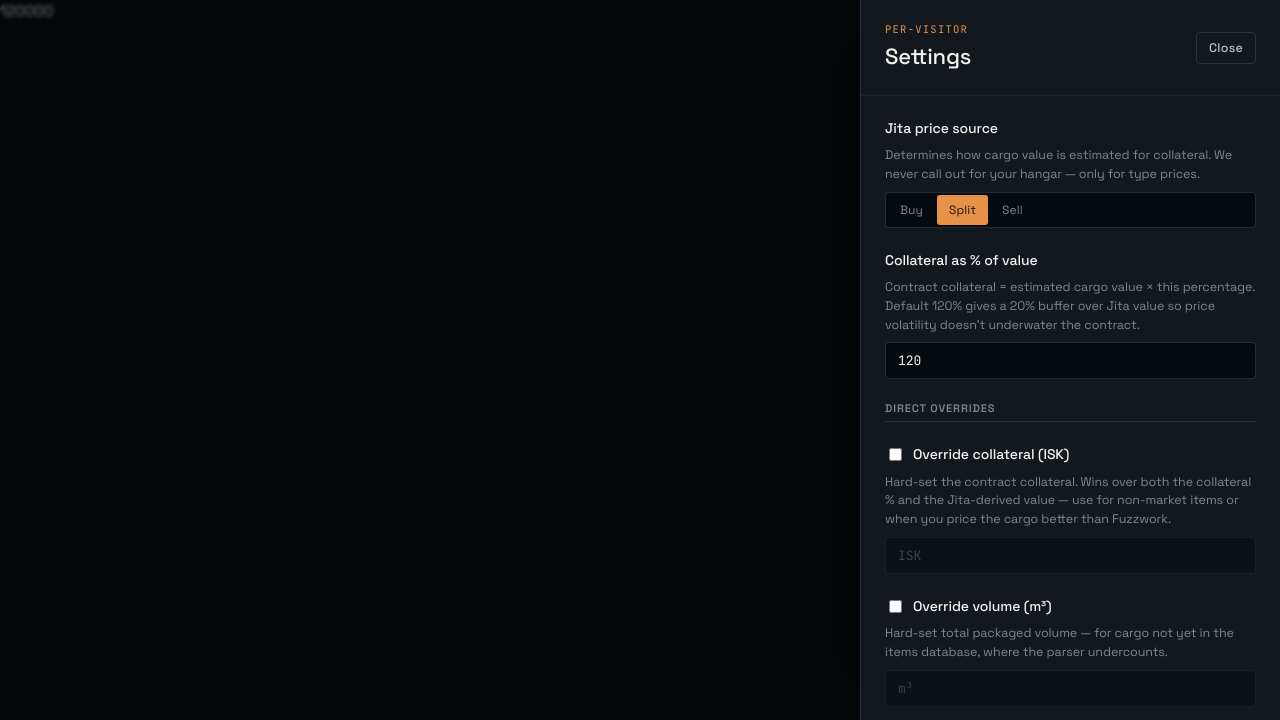
Scenario: SettingsDrawer — collateral-% typed input (#36) › normalizes an emptied field back to a valid value on commit
Clear the number field labelled "Collateral as % of value": x=1070, y=361 [885,342,1256,380]
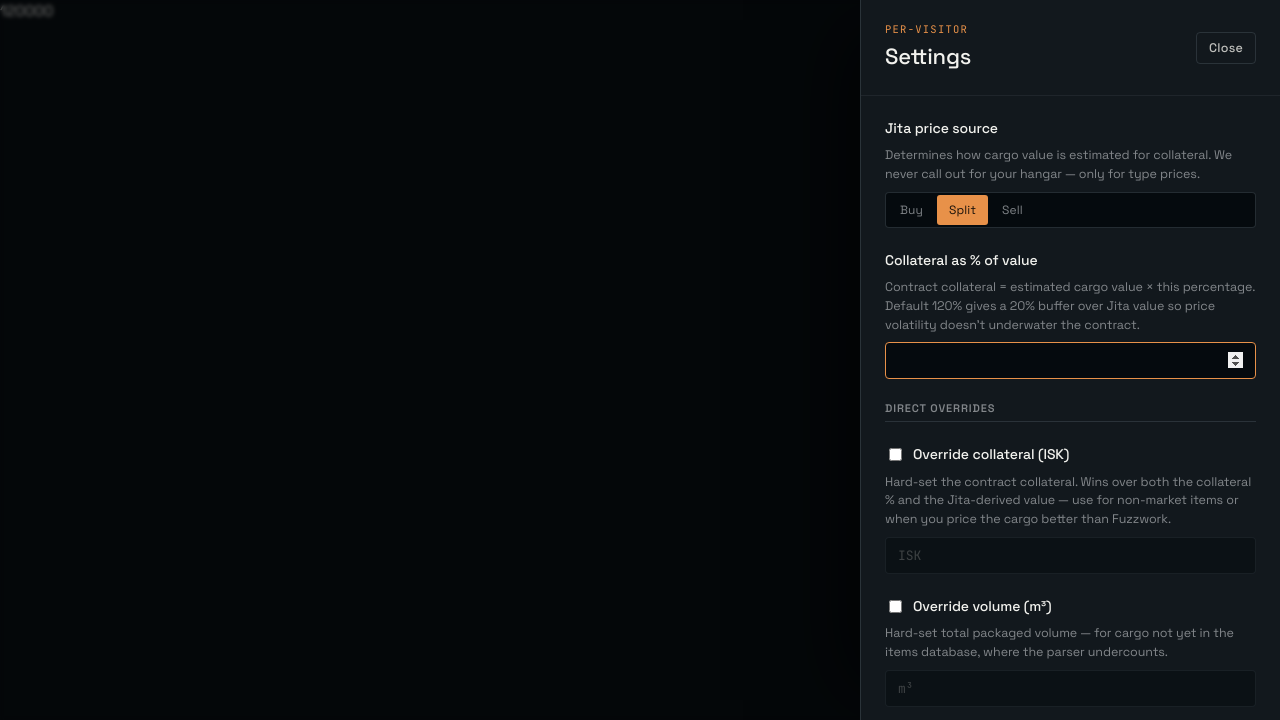
Press Tab
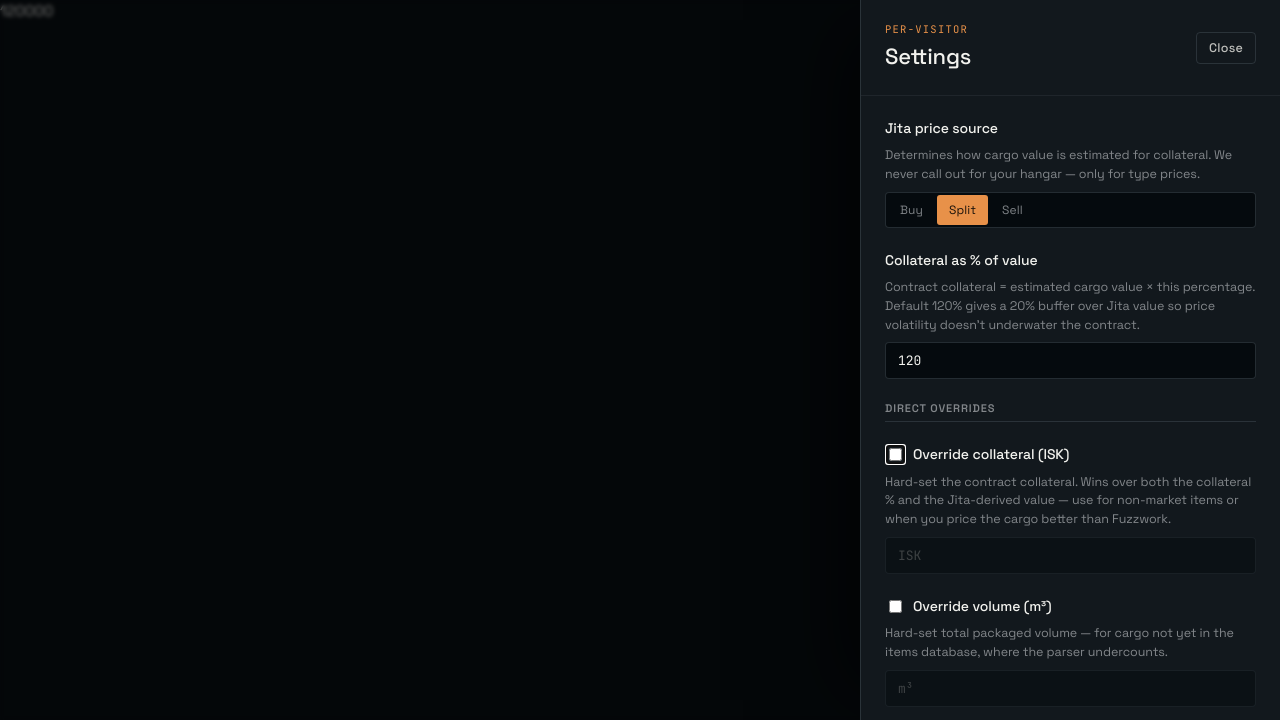
Result: the number field labelled "Collateral as % of value" holds "120" at [885,342,1256,380]
